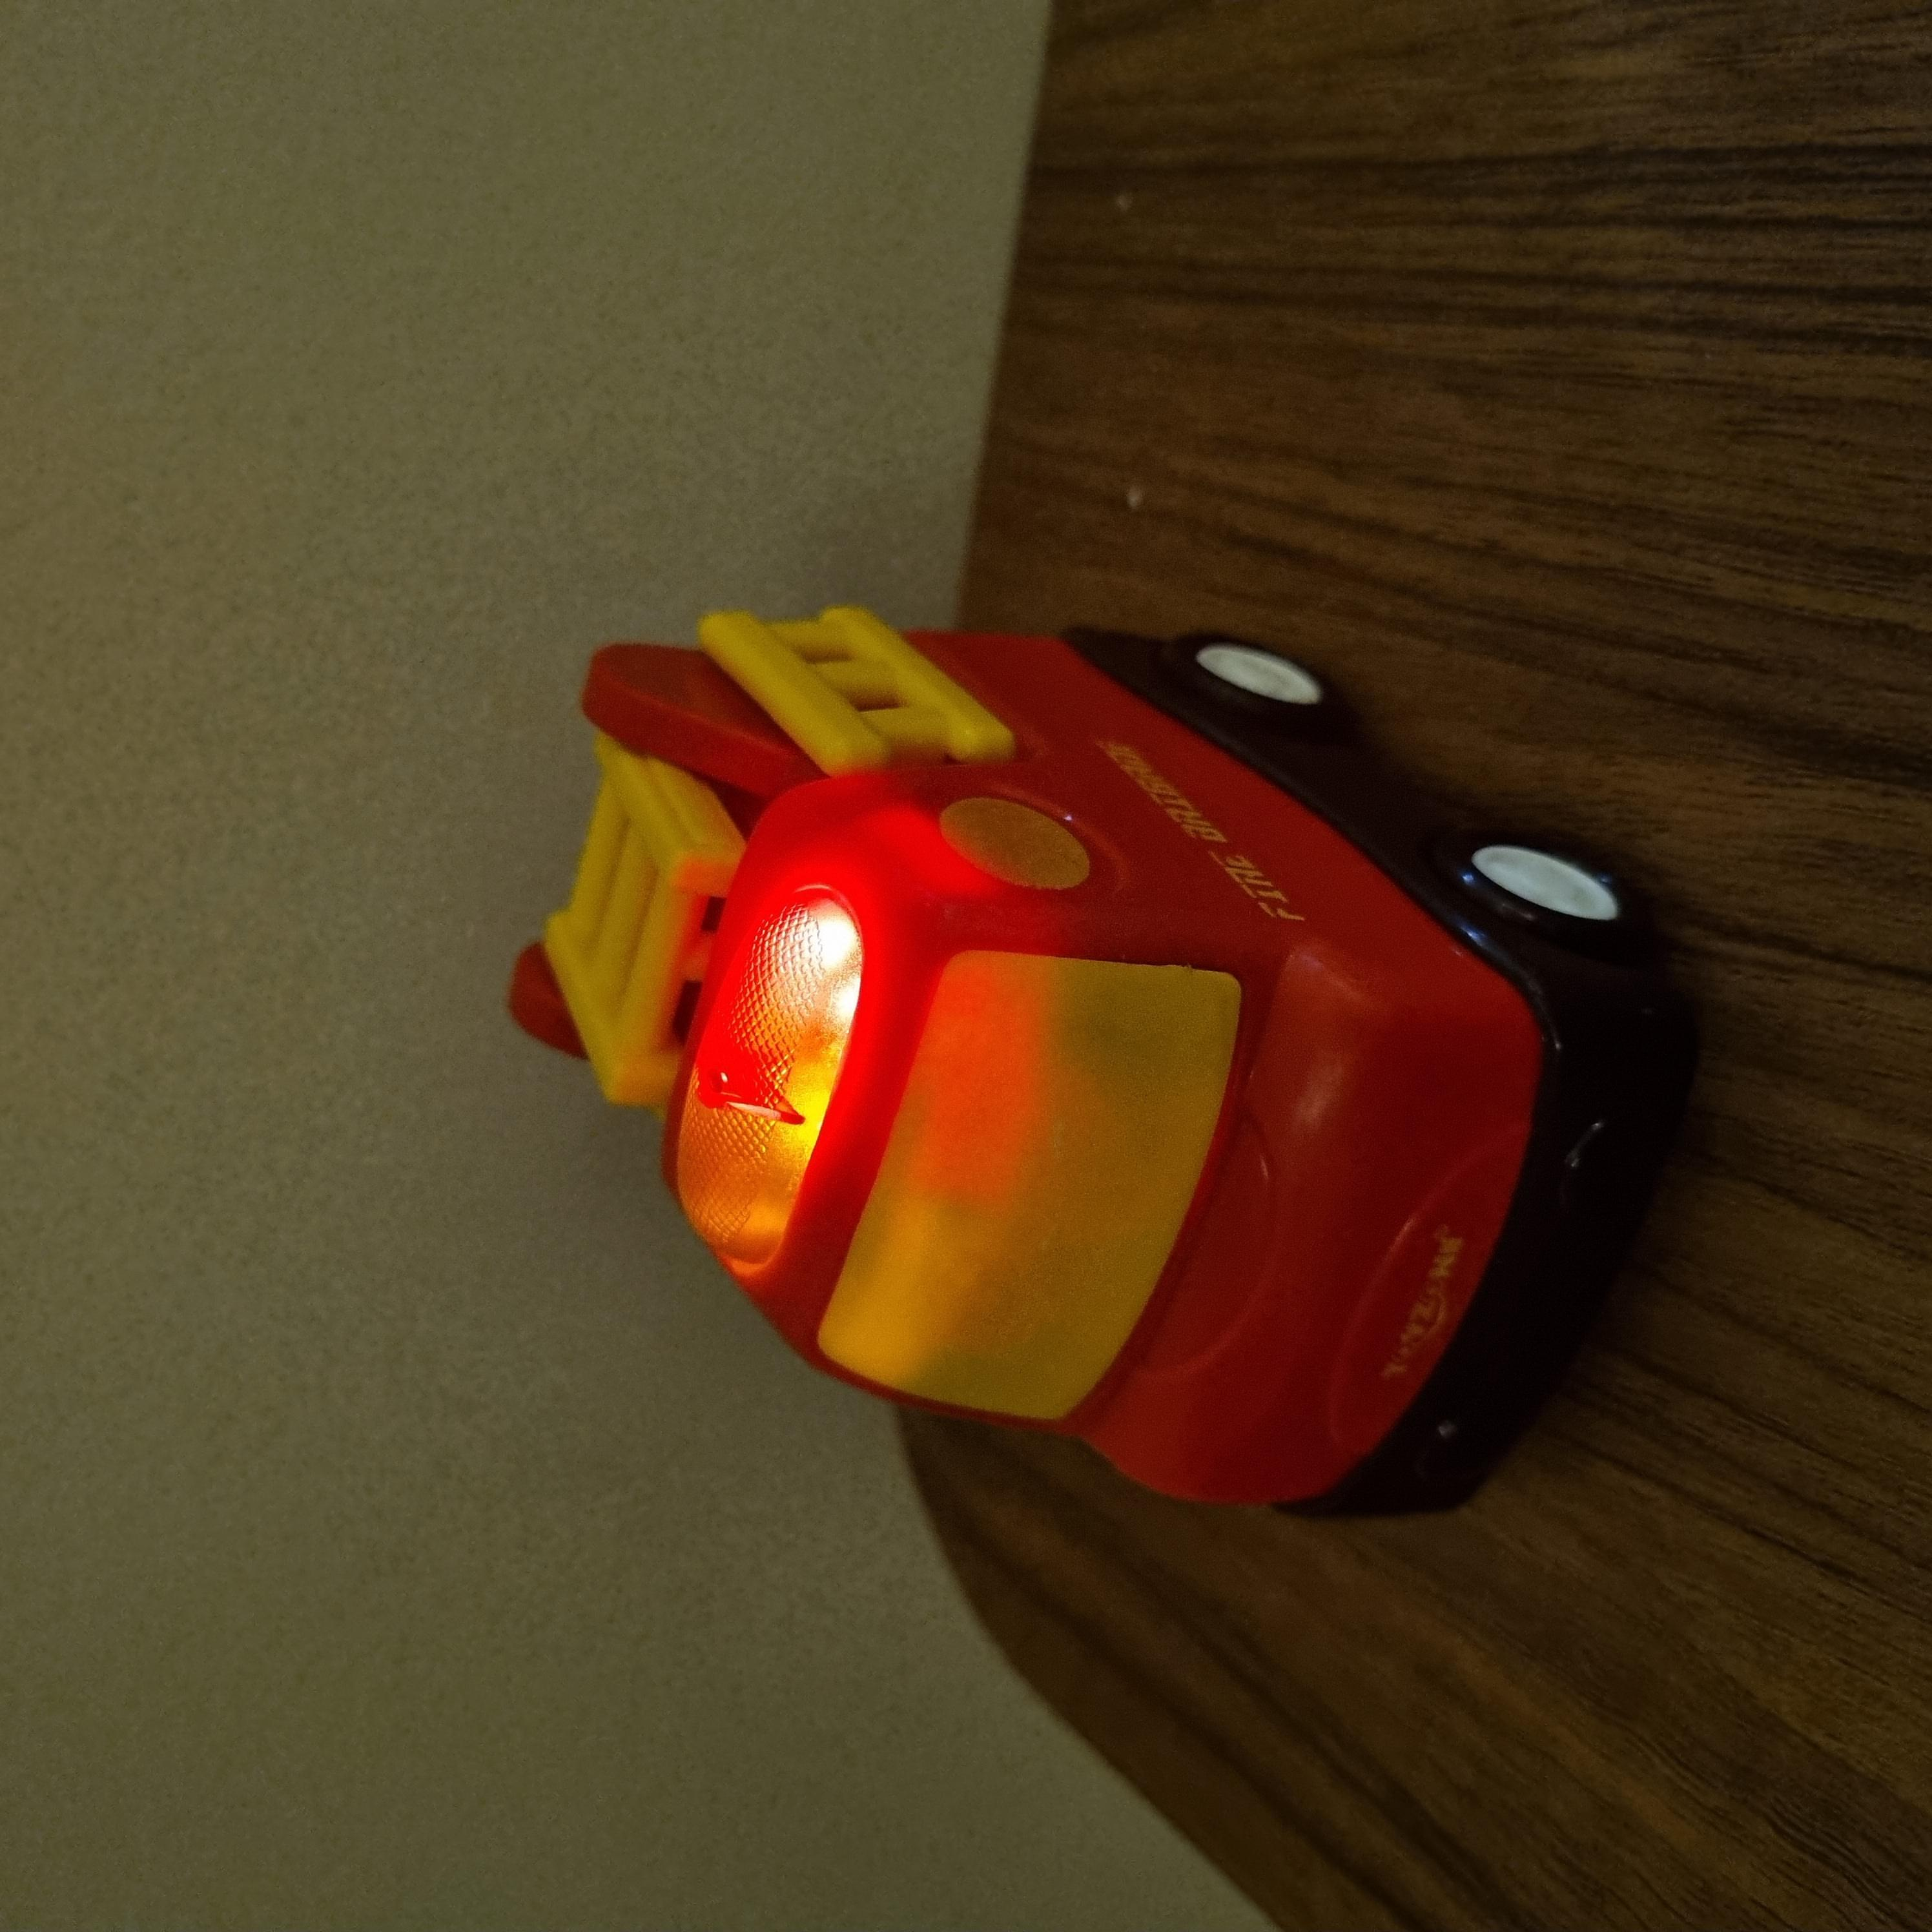firetruck_on: (418, 504, 1322, 1665)
